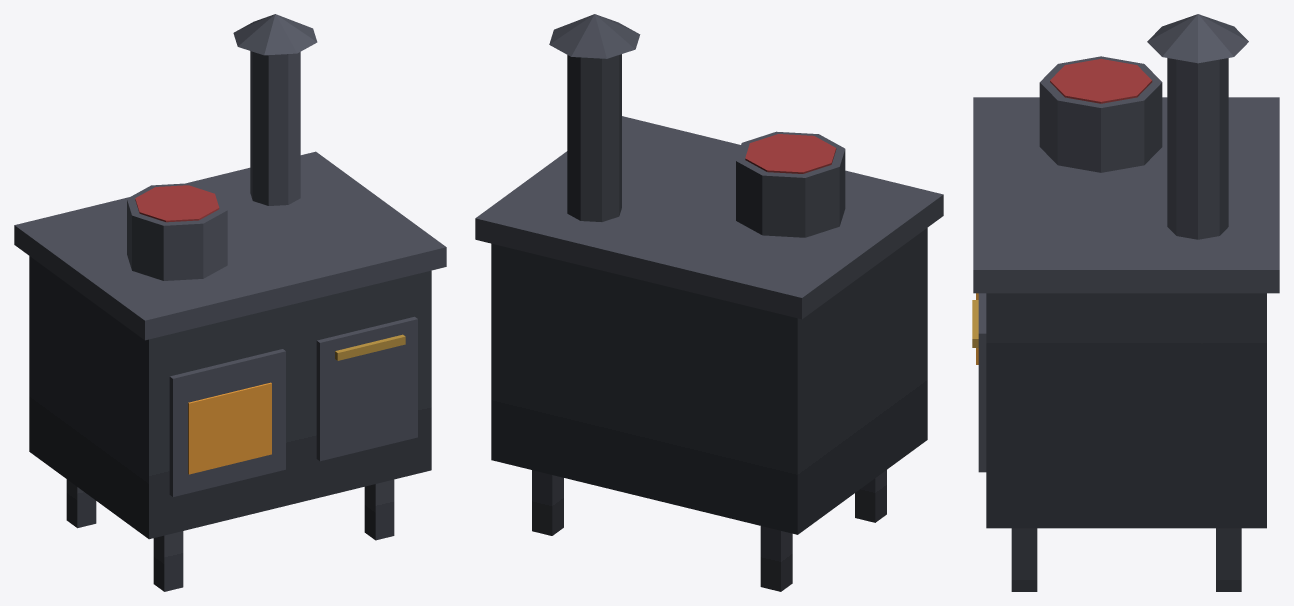
File: stove.glb
3 renders of one model, left to right at view 1: azimuth 30°, elevation 25°; view 2: azimuth 150°, elevation 25°; view 3: azimuth 270°, elevation 25°, orthographic. The views are drawn at different scales.
Size of the model in its own units: 0.8 by 1.2 by 0.6025.
Materials: 1 (1 with a texture image).
